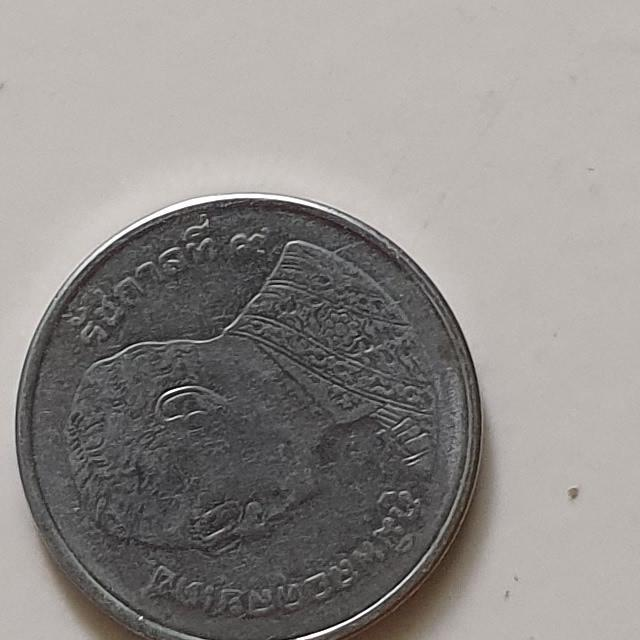1 Bath: (10, 180, 488, 640)
